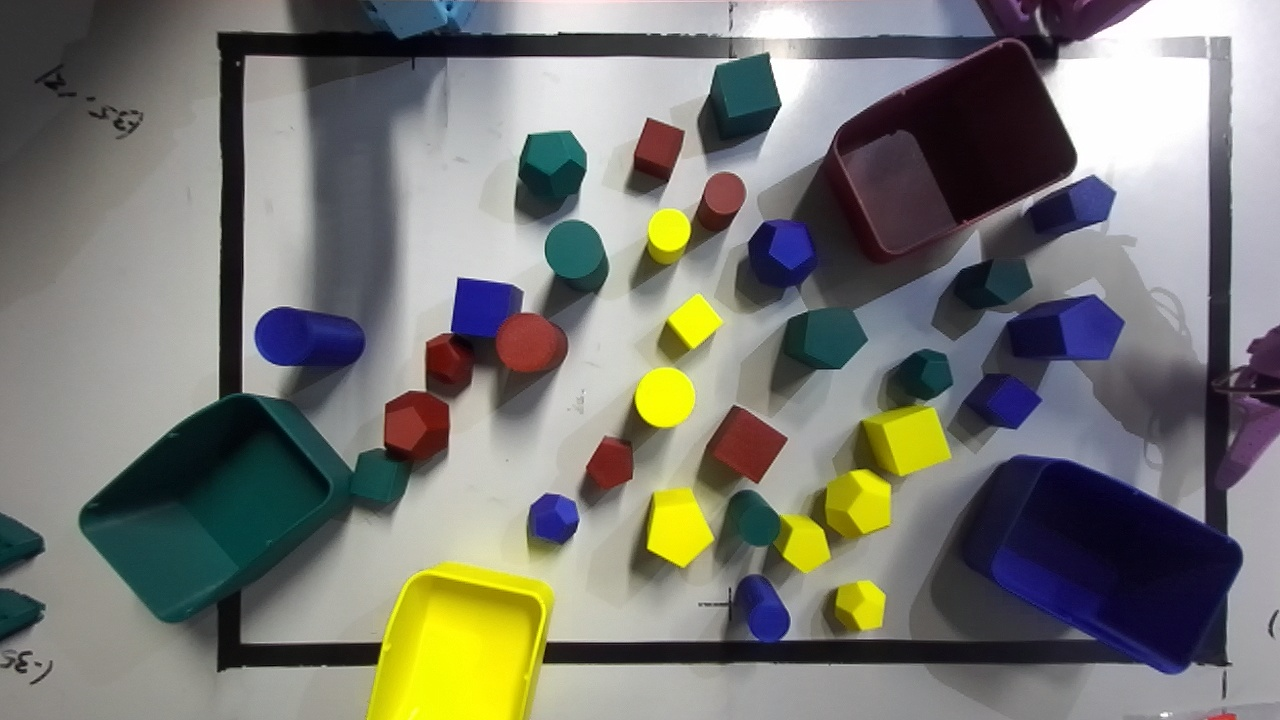bin: (79, 394, 351, 622), (962, 456, 1242, 673), (826, 39, 1075, 262), (367, 562, 553, 719)
cube: (706, 405, 787, 482), (862, 406, 950, 475), (709, 53, 780, 138), (451, 278, 523, 337), (964, 373, 1040, 428), (350, 449, 411, 507), (634, 117, 684, 180), (666, 294, 722, 349)
cylinder: (254, 307, 365, 367), (545, 220, 608, 291), (495, 313, 567, 372), (733, 574, 790, 642), (634, 367, 694, 427), (726, 490, 779, 546), (696, 172, 745, 231), (647, 209, 690, 264)
dodecahedron: (748, 219, 817, 288), (518, 130, 586, 199), (824, 470, 890, 537), (384, 392, 448, 460), (895, 349, 952, 399), (425, 333, 474, 387), (834, 580, 885, 630), (527, 493, 578, 543)
hexagonal: (1006, 296, 1124, 359), (646, 488, 713, 567), (1026, 175, 1116, 233), (782, 307, 867, 368), (953, 259, 1031, 308), (774, 514, 829, 572), (586, 436, 632, 489)
